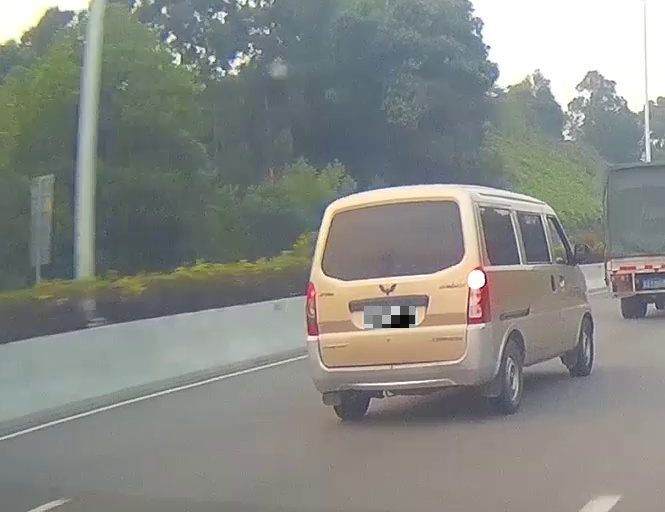L_light: (305, 282, 318, 335)
R_light: (466, 266, 491, 324)
T_light: (381, 205, 406, 211)
day-right: (305, 184, 494, 421)
plate_1: (364, 306, 415, 328)
